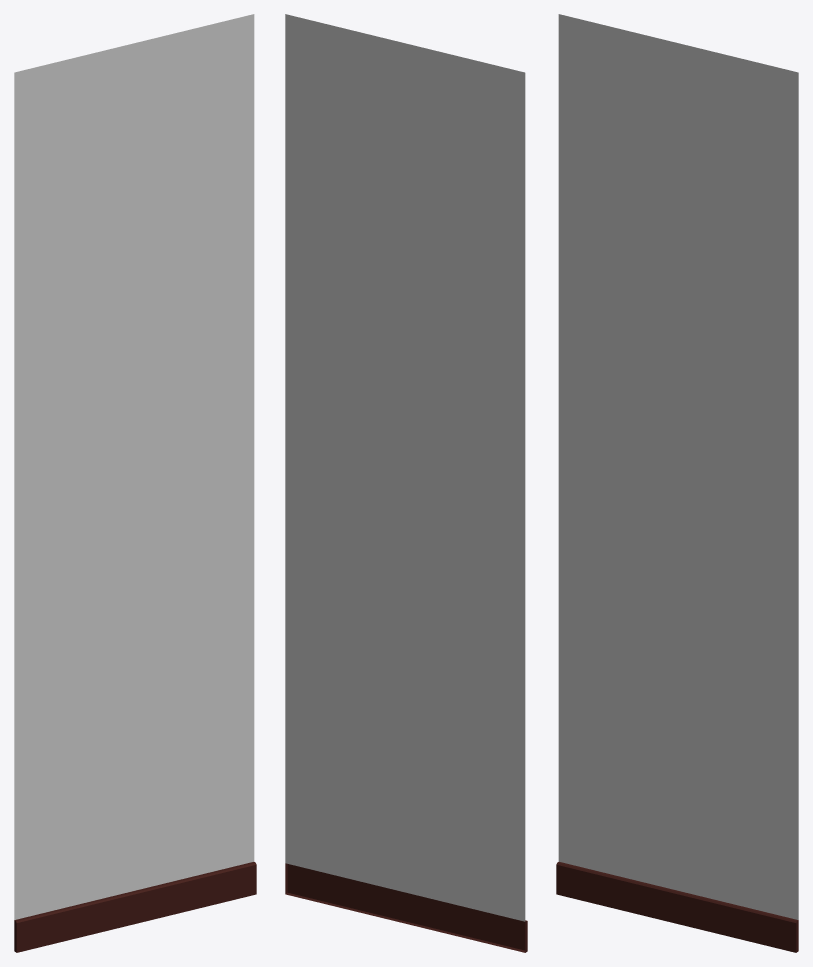
Rendered from Hallway_Wall.016.fbx.
3 views of the same model, side by side, from view 1: azimuth 30°, elevation 25°; view 2: azimuth 150°, elevation 25°; view 3: azimuth 330°, elevation 25° (orthographic).
Visible parts, largest first — view 1: Hallway_Wall.016; view 2: Hallway_Wall.016; view 3: Hallway_Wall.016.
Part boxes in pixels (<box>): Hallway_Wall.016: <box>14,14,256,952</box>; Hallway_Wall.016: <box>285,14,527,952</box>; Hallway_Wall.016: <box>556,14,798,952</box>.
Bounding box in the file's own units: 78.49 × 275 × 1.33.
